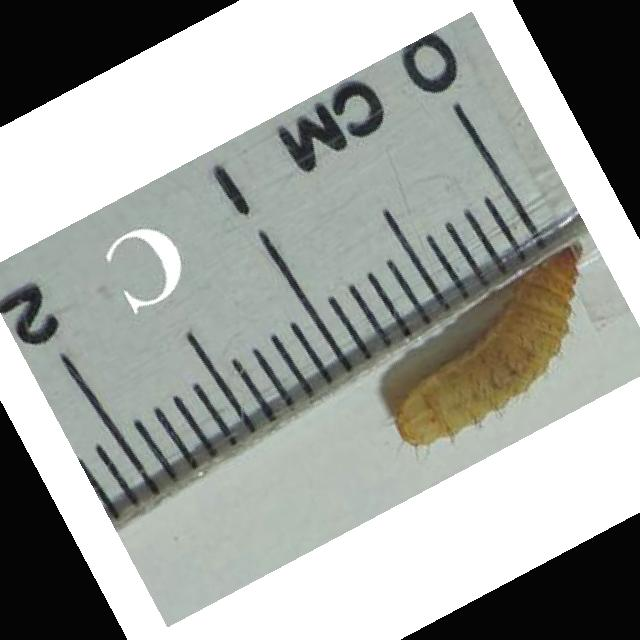Maggot: (394, 241, 588, 449)
